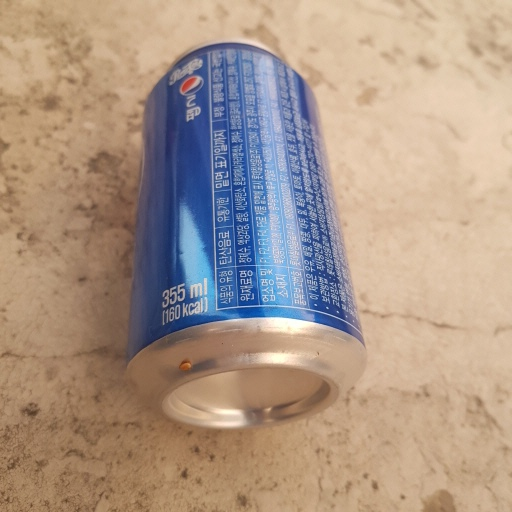Metal_0: (119, 38, 370, 433)
